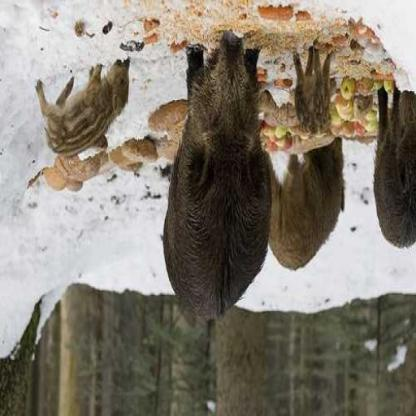boar: (135, 1, 245, 340), (259, 156, 361, 277), (28, 56, 134, 168), (363, 117, 415, 277)
